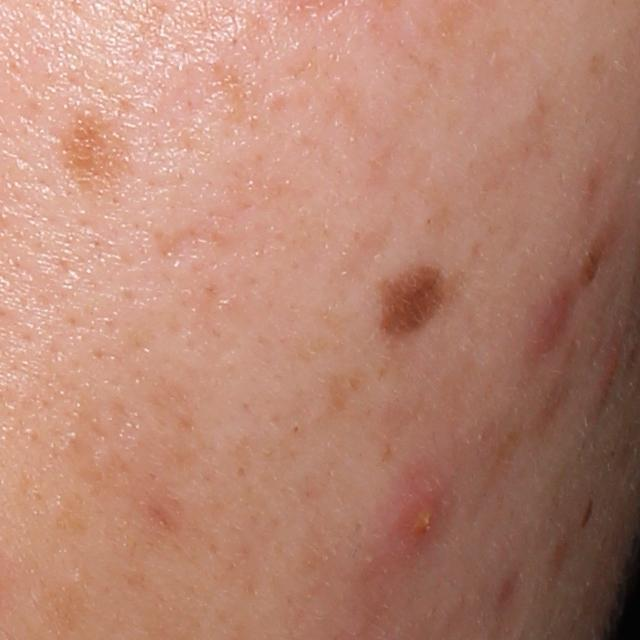atrophic_scar: (158, 225, 212, 265)
melasma: (62, 111, 133, 191)
nevus: (371, 256, 449, 337)
papule: (530, 291, 574, 355), (399, 499, 446, 554), (594, 342, 623, 398)
